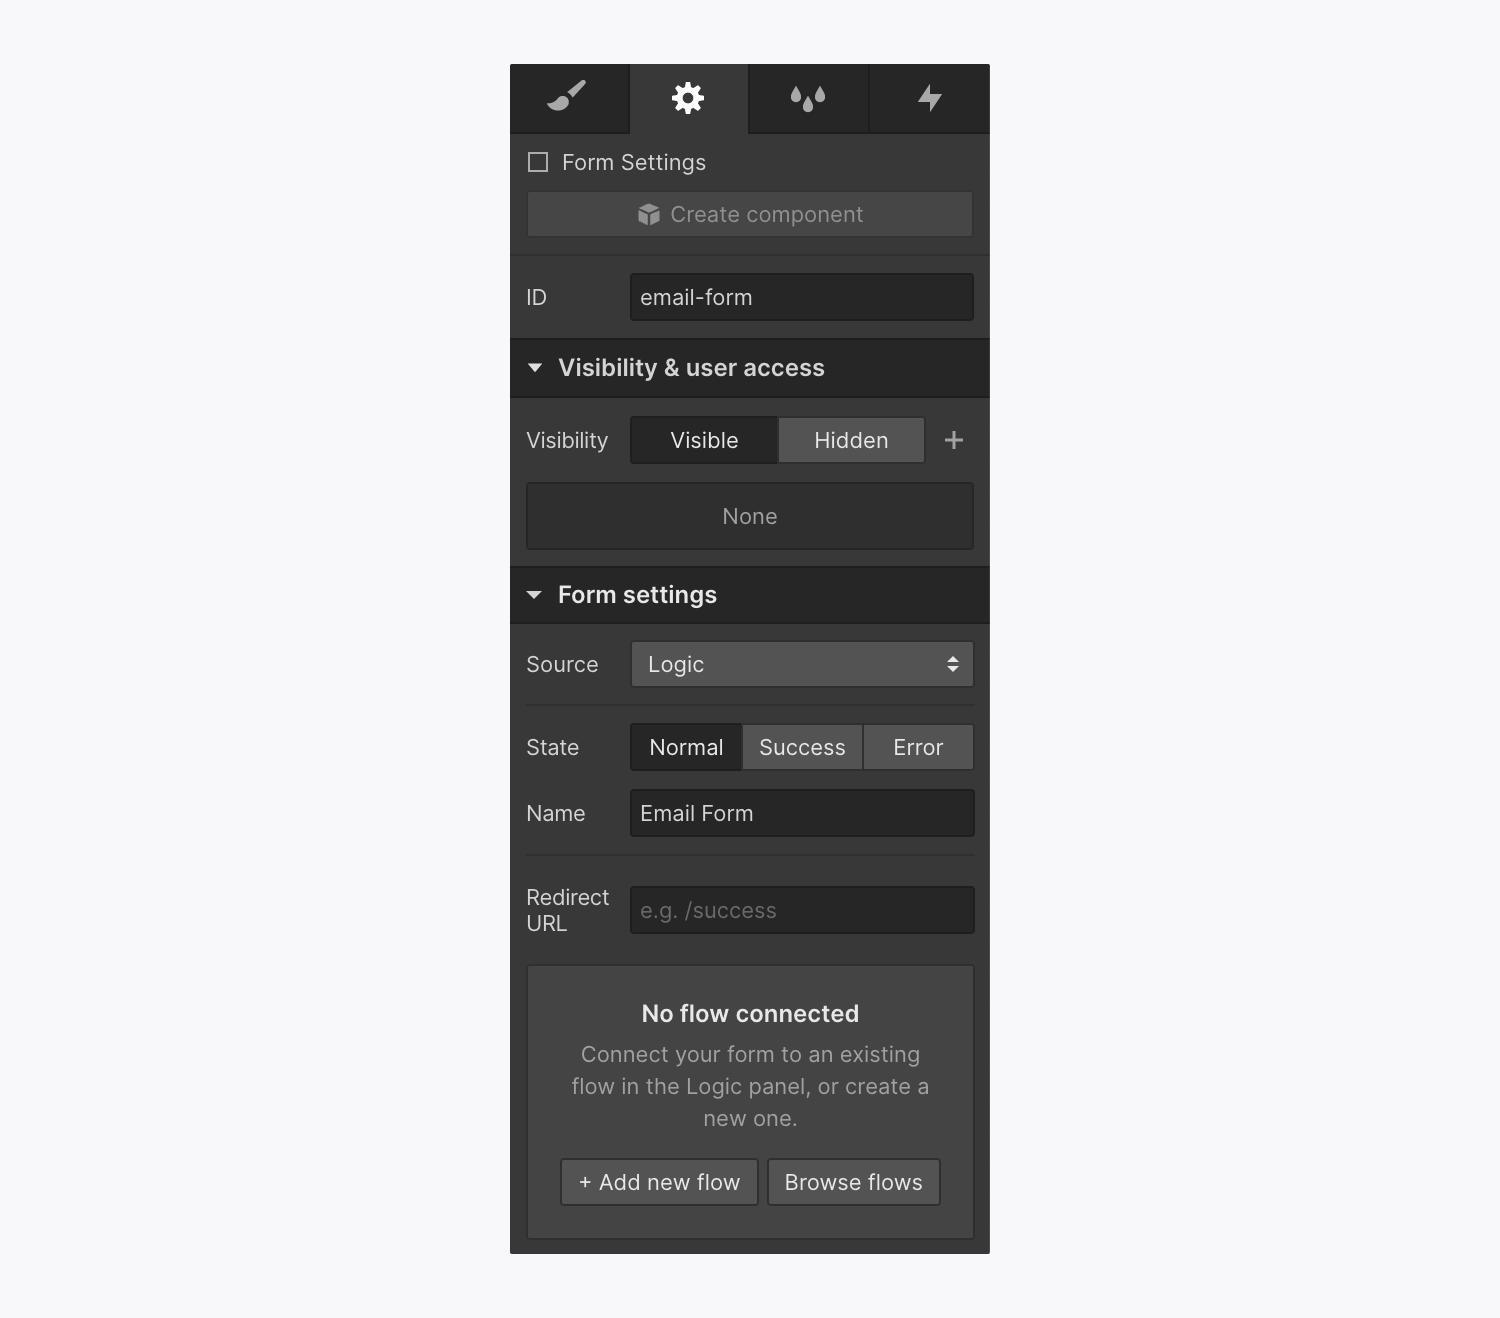button: (526, 481, 974, 551), (529, 191, 976, 237), (870, 65, 990, 137), (513, 65, 631, 137), (562, 1164, 756, 1207), (750, 65, 866, 137), (636, 66, 749, 133), (770, 1164, 939, 1204)
checkbox: (528, 153, 548, 174)
dropdown: (509, 565, 989, 632), (511, 341, 992, 402), (631, 644, 974, 689)
icon: (937, 425, 971, 455)
input: (634, 269, 976, 325), (634, 885, 976, 939), (634, 789, 972, 842)
label: (529, 887, 615, 942), (557, 148, 712, 177), (520, 425, 619, 463), (526, 803, 602, 837), (529, 649, 601, 683), (523, 736, 585, 768), (520, 281, 562, 316)
radio: (633, 418, 781, 467), (782, 417, 925, 464), (745, 725, 865, 771), (631, 725, 744, 773), (864, 725, 974, 769)
